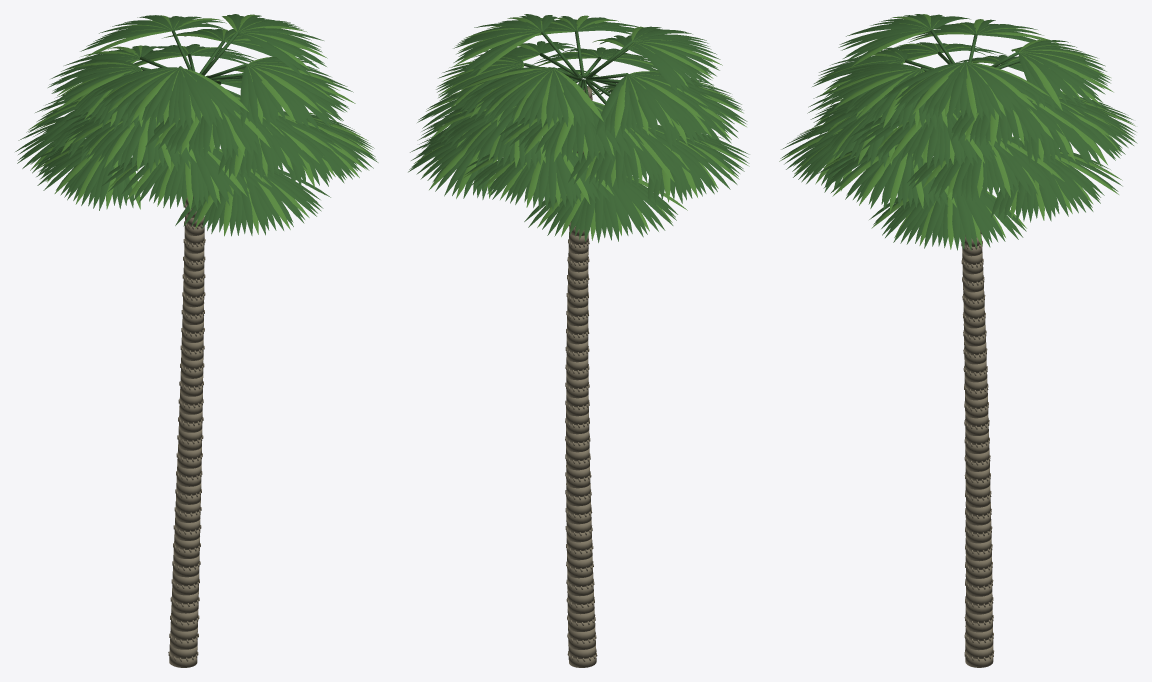
The model's file is Production_Washingtonia_0.glb.
3 views of the same model, side by side, from view 1: azimuth 30°, elevation 25°; view 2: azimuth 150°, elevation 25°; view 3: azimuth 270°, elevation 25° (orthographic).
Visible parts, largest first — view 1: Production_Washingtonia_0_Landscape_LeafDark, Production_Washingtonia_0_Landscape_LeafSun, Production_Washingtonia_0_Landscape_PalmTrunk; view 2: Production_Washingtonia_0_Landscape_LeafDark, Production_Washingtonia_0_Landscape_LeafSun, Production_Washingtonia_0_Landscape_PalmTrunk; view 3: Production_Washingtonia_0_Landscape_LeafDark, Production_Washingtonia_0_Landscape_LeafSun, Production_Washingtonia_0_Landscape_PalmTrunk.
Part boxes in pixels (bbox=[...]): Production_Washingtonia_0_Landscape_LeafDark: bbox=[15, 14, 378, 236]; Production_Washingtonia_0_Landscape_LeafSun: bbox=[23, 14, 372, 236]; Production_Washingtonia_0_Landscape_PalmTrunk: bbox=[168, 196, 205, 667]; Production_Washingtonia_0_Landscape_LeafDark: bbox=[408, 14, 749, 242]; Production_Washingtonia_0_Landscape_LeafSun: bbox=[414, 15, 749, 240]; Production_Washingtonia_0_Landscape_PalmTrunk: bbox=[565, 86, 597, 667]; Production_Washingtonia_0_Landscape_LeafDark: bbox=[780, 14, 1137, 250]; Production_Washingtonia_0_Landscape_LeafSun: bbox=[779, 14, 1135, 249]; Production_Washingtonia_0_Landscape_PalmTrunk: bbox=[961, 231, 994, 667].
Size of the model in its own units: 4.91 by 9.22 by 4.81.
